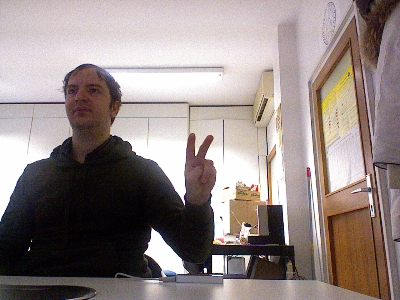剪刀: (183, 131, 216, 205)
